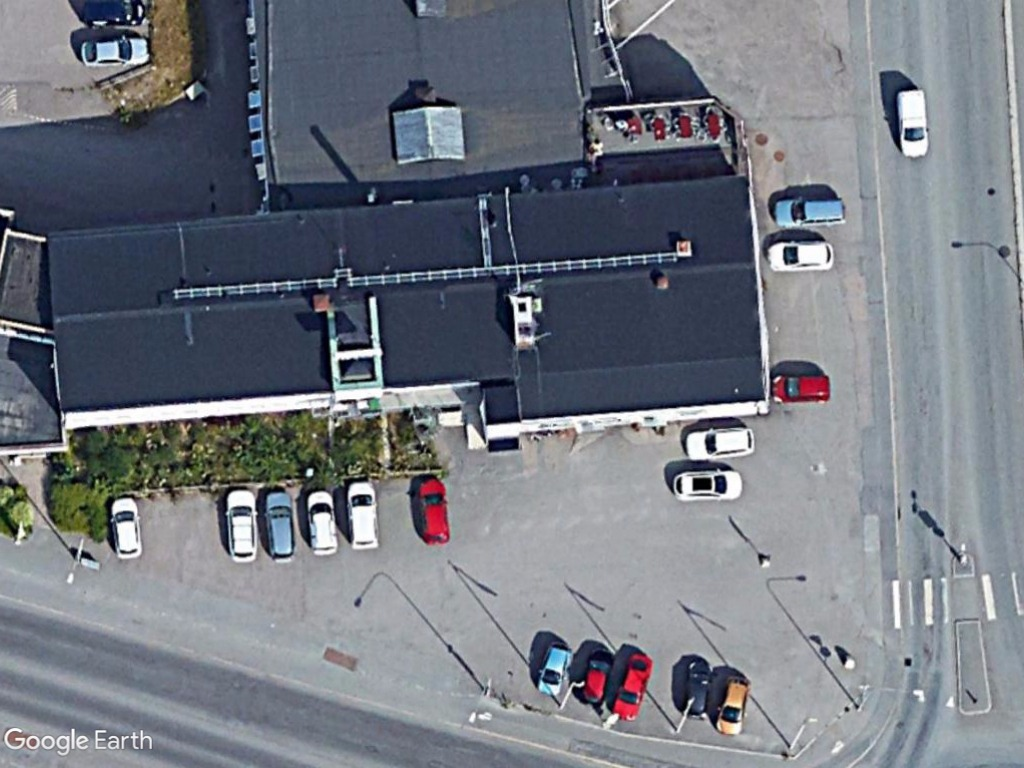car: (608, 652, 656, 721), (680, 424, 757, 466), (669, 465, 746, 504), (763, 236, 838, 276), (416, 473, 455, 549), (770, 193, 850, 230), (78, 32, 155, 69), (222, 486, 259, 563), (343, 477, 382, 550), (712, 671, 753, 740), (302, 488, 342, 558), (106, 494, 146, 563), (263, 488, 299, 563), (768, 373, 835, 406), (681, 653, 713, 722), (536, 639, 572, 696), (579, 646, 614, 703)
van: (894, 85, 932, 161)
